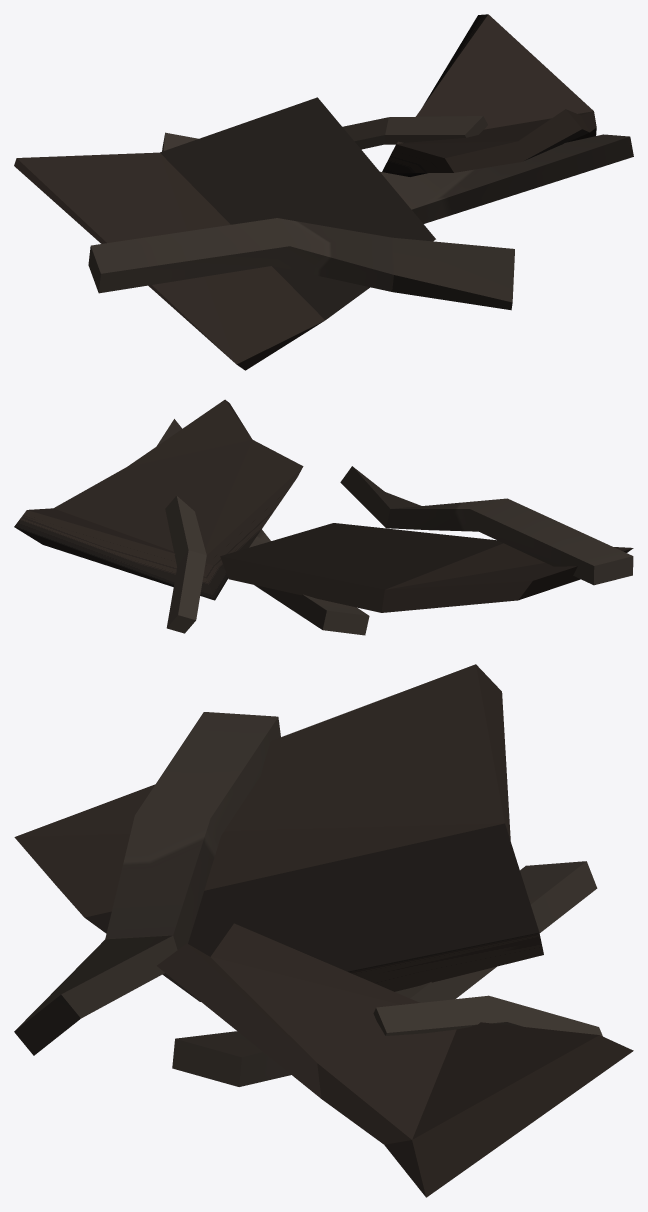
File: SM_Prop_Vehicle_Debris_01.fbx
3 renders of one model, top to bottom at view 1: azimuth 30°, elevation 25°; view 2: azimuth 150°, elevation 25°; view 3: azimuth 270°, elevation 25°, orthographic. The views are drawn at different scales.
Visible parts, largest first — view 1: SM_Prop_Vehicle_Debris_01; view 2: SM_Prop_Vehicle_Debris_01; view 3: SM_Prop_Vehicle_Debris_01.
Part boxes in pixels (x1,y1,x2,y2): SM_Prop_Vehicle_Debris_01: (14, 14, 633, 370); SM_Prop_Vehicle_Debris_01: (14, 399, 633, 635); SM_Prop_Vehicle_Debris_01: (14, 664, 633, 1197).
Bounding box in the file's own units: 144 × 32.84 × 96.5.
